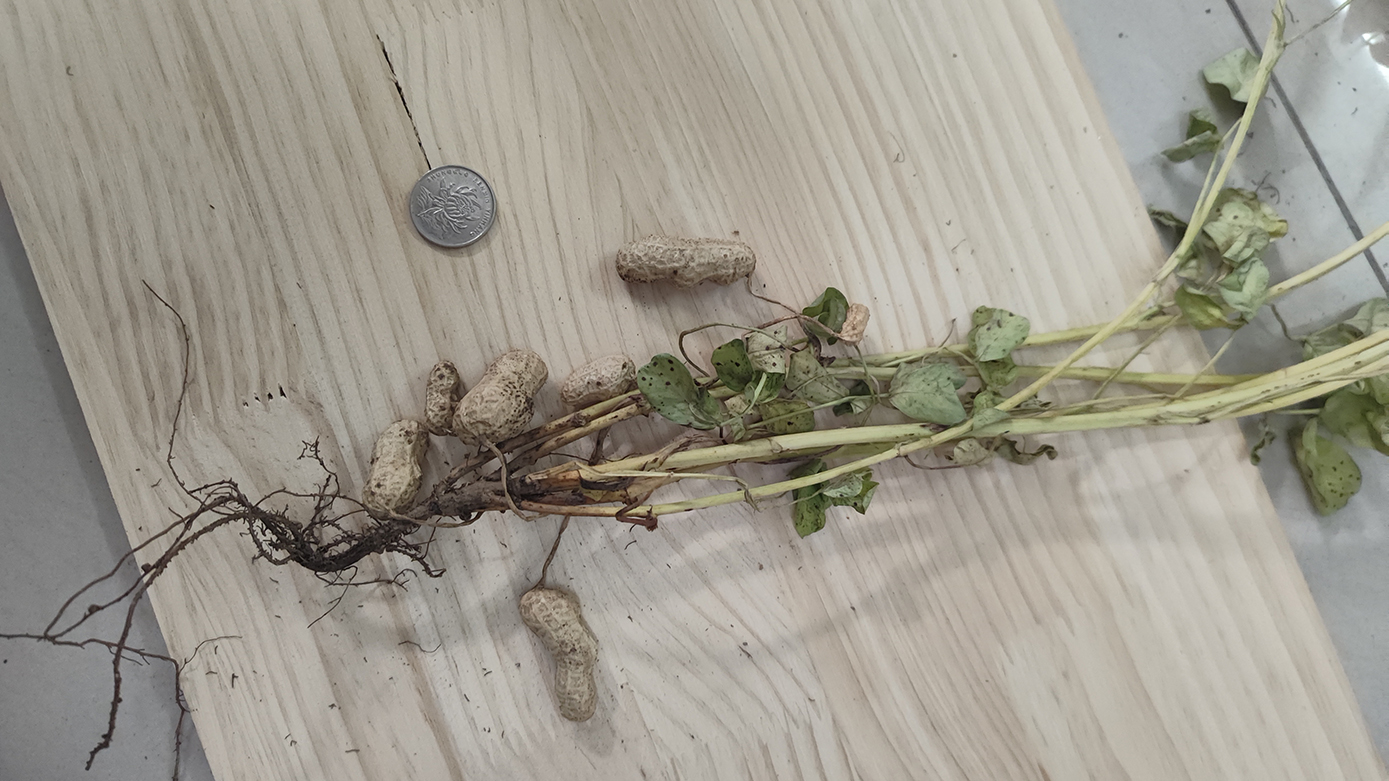h: (520, 588, 598, 721), (453, 349, 549, 446), (617, 233, 757, 288), (362, 418, 430, 516), (561, 354, 635, 405), (424, 362, 458, 436)
